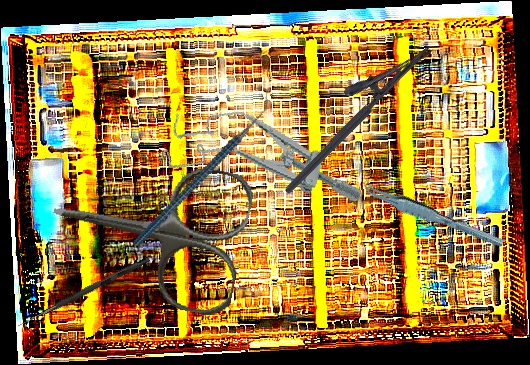Chopper: (99, 91, 305, 247)
Hook Surgical: (16, 254, 151, 331)
Iris Scissors: (39, 138, 257, 320)
Needle Holder: (264, 24, 435, 196)
Speculum: (156, 93, 374, 219)
Tissue Forceps: (358, 165, 506, 264)
